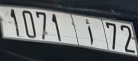0: (22, 9, 36, 39)
1: (8, 8, 21, 38), (51, 12, 63, 42)
2: (120, 24, 135, 54)
7: (105, 21, 119, 51), (37, 11, 48, 40)
a: (83, 17, 95, 47)
